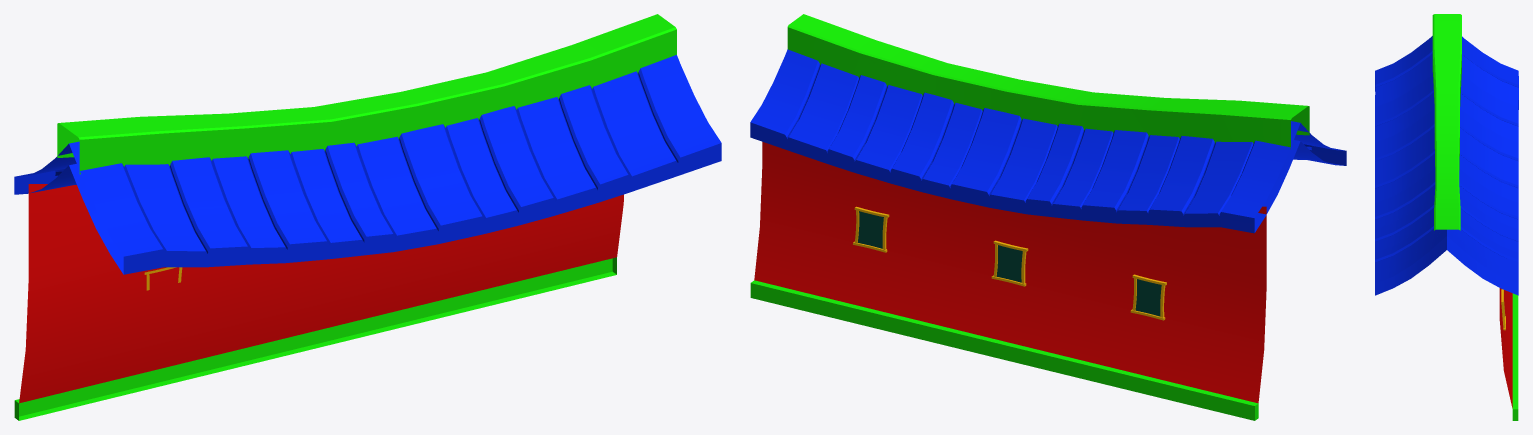
File: Temple_Wall.fbx
3 renders of one model, left to right at view 1: azimuth 30°, elevation 25°; view 2: azimuth 150°, elevation 25°; view 3: azimuth 270°, elevation 25°, orthographic. The views are drawn at different scales.
Visible parts, largest first — view 1: Temple_Wall; view 2: Temple_Wall; view 3: Temple_Wall.
Part boxes in pixels (left/top/right/bottom): Temple_Wall: left=14, top=14, right=721, bottom=420; Temple_Wall: left=750, top=14, right=1346, bottom=420; Temple_Wall: left=1375, top=14, right=1518, bottom=420.
Size of the model in its own units: 788 by 412 by 249.
